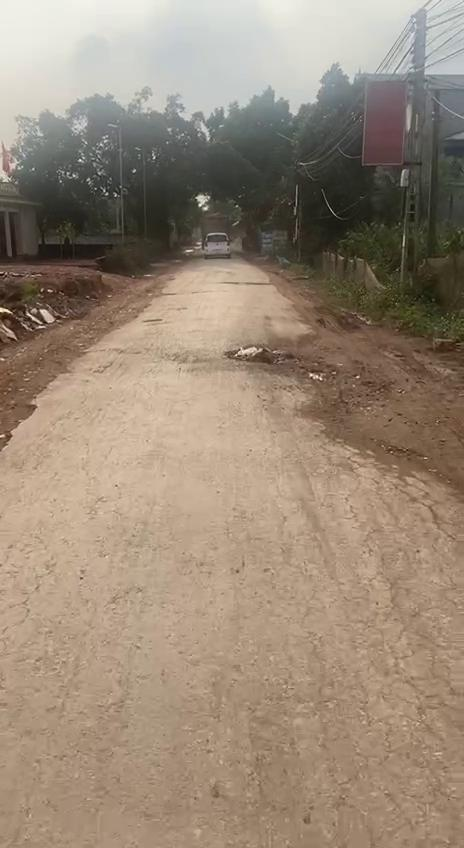pothole: (226, 342, 298, 372)
